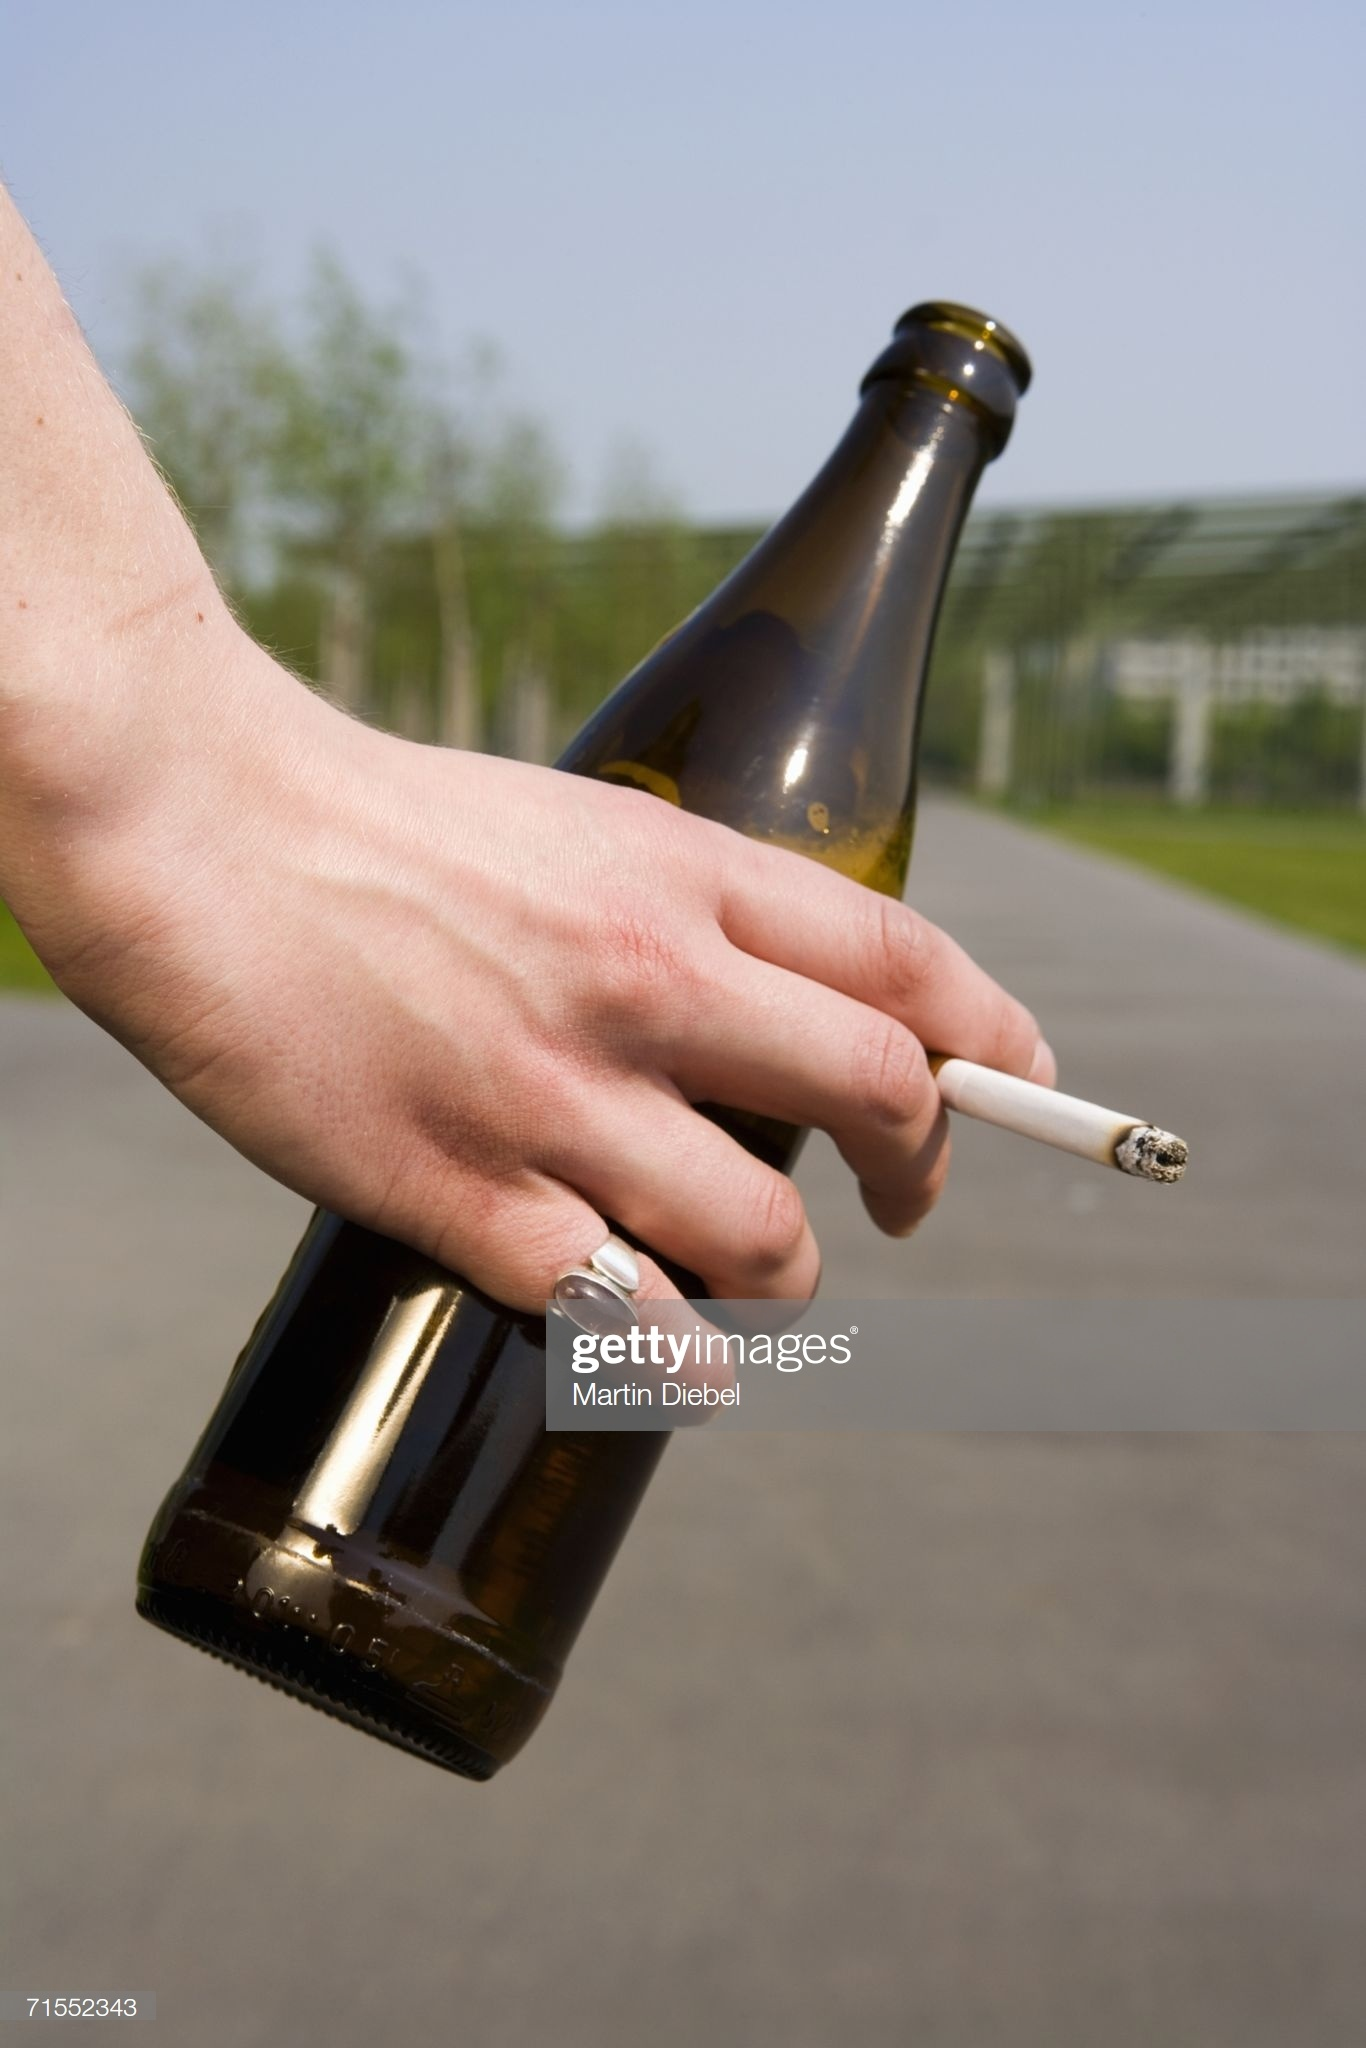beerBottle: (188, 293, 1028, 1754)
